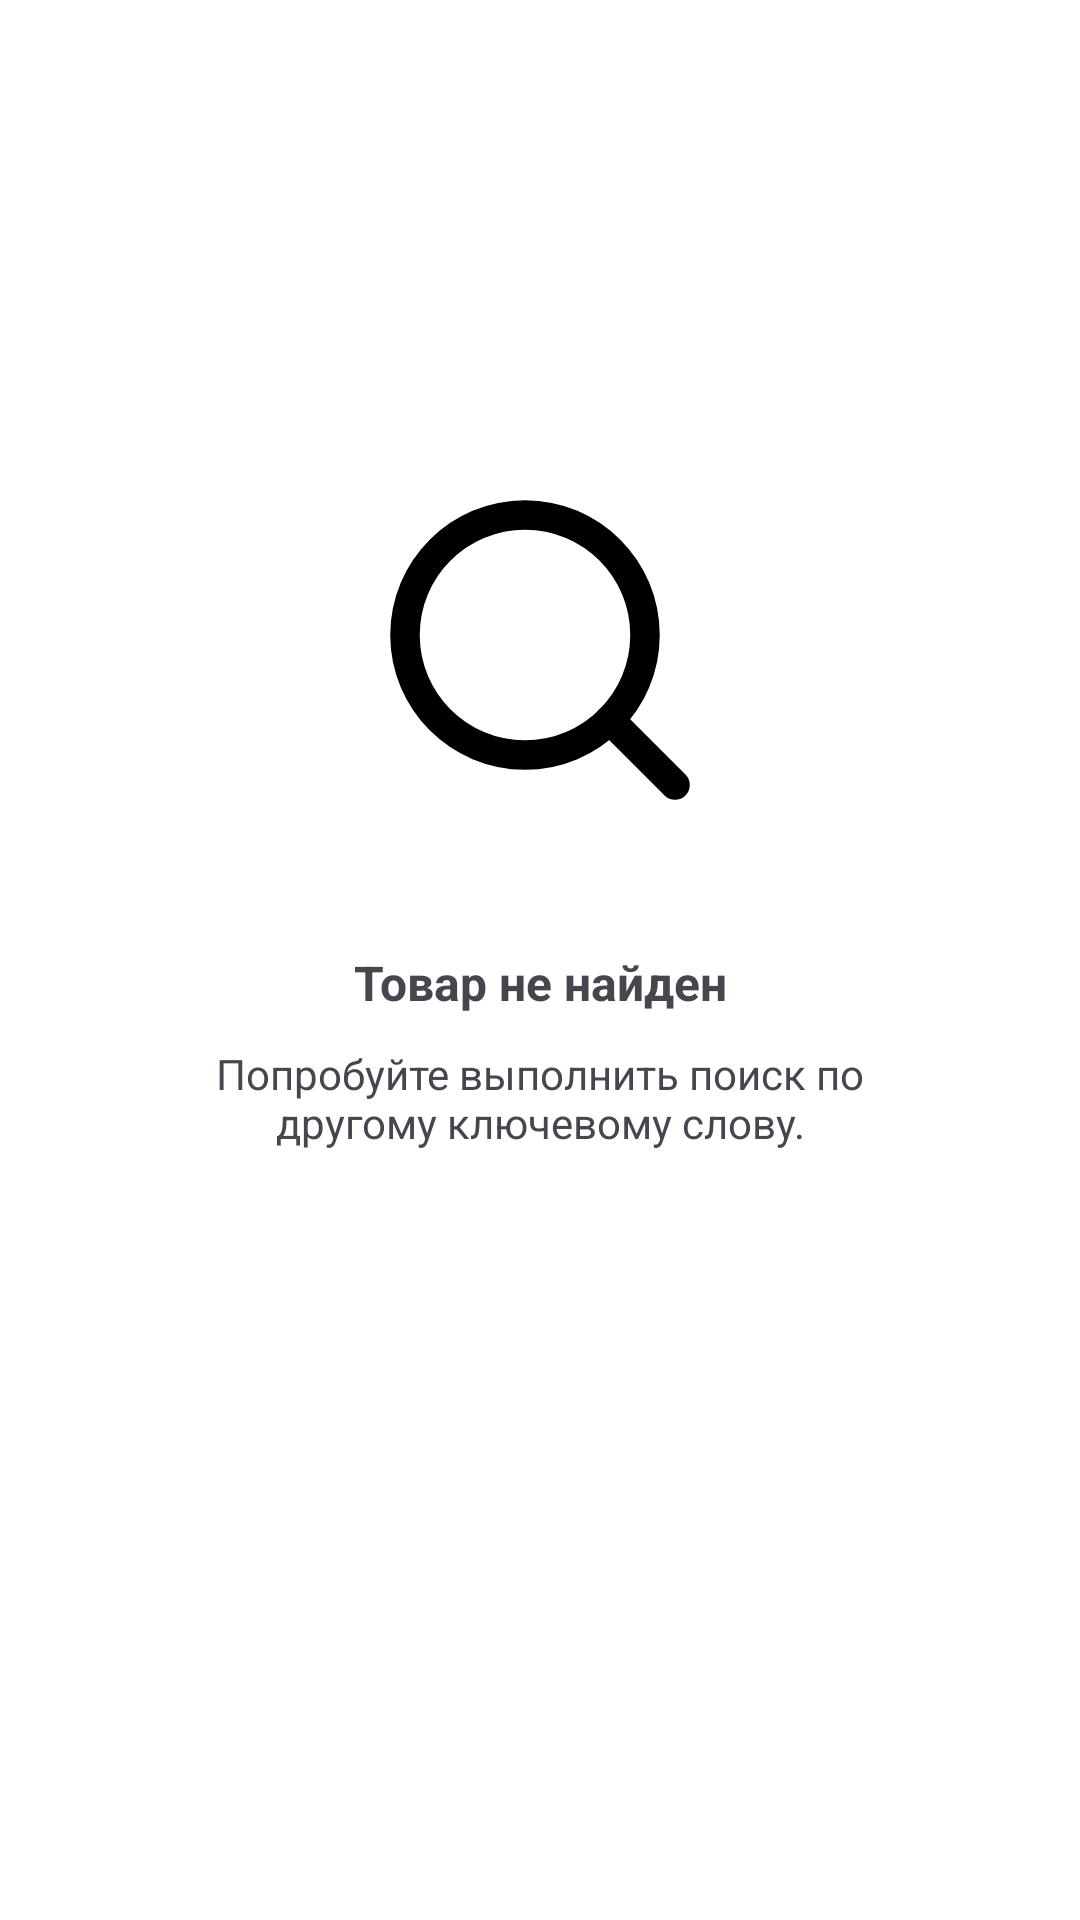

Icons on this 1080px×1920px Android screen, each with its box as BBox(x1, y1, x2, y2):
feather search: BBox(390, 500, 690, 800)
